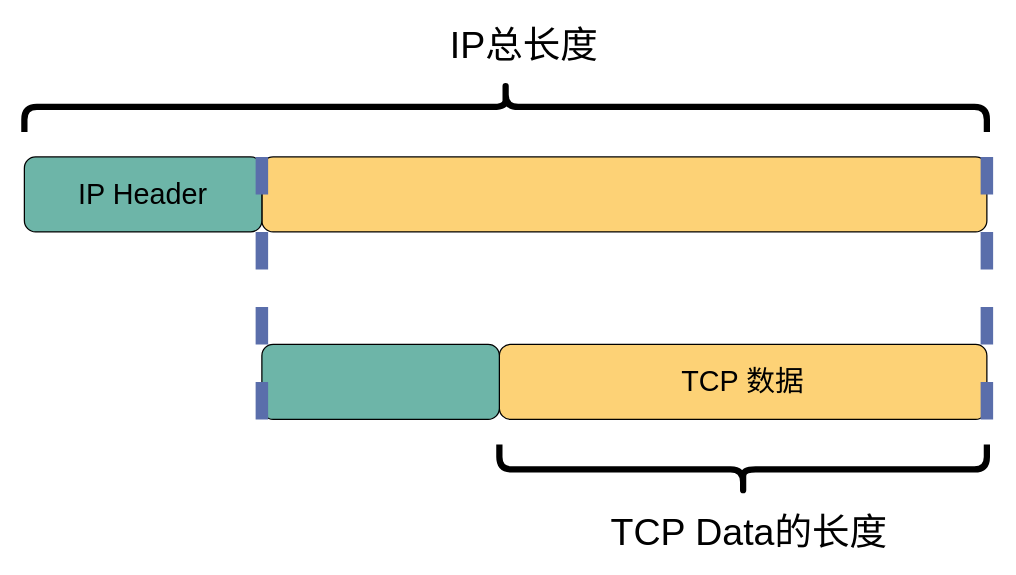
Some shapes in this 1016 by 575 pixel diagram are drawn without their labels. Each missing label, with the centre of its shape:
"IP数据" goes at point 624,194.
"TCP Header" goes at point 380,381.
